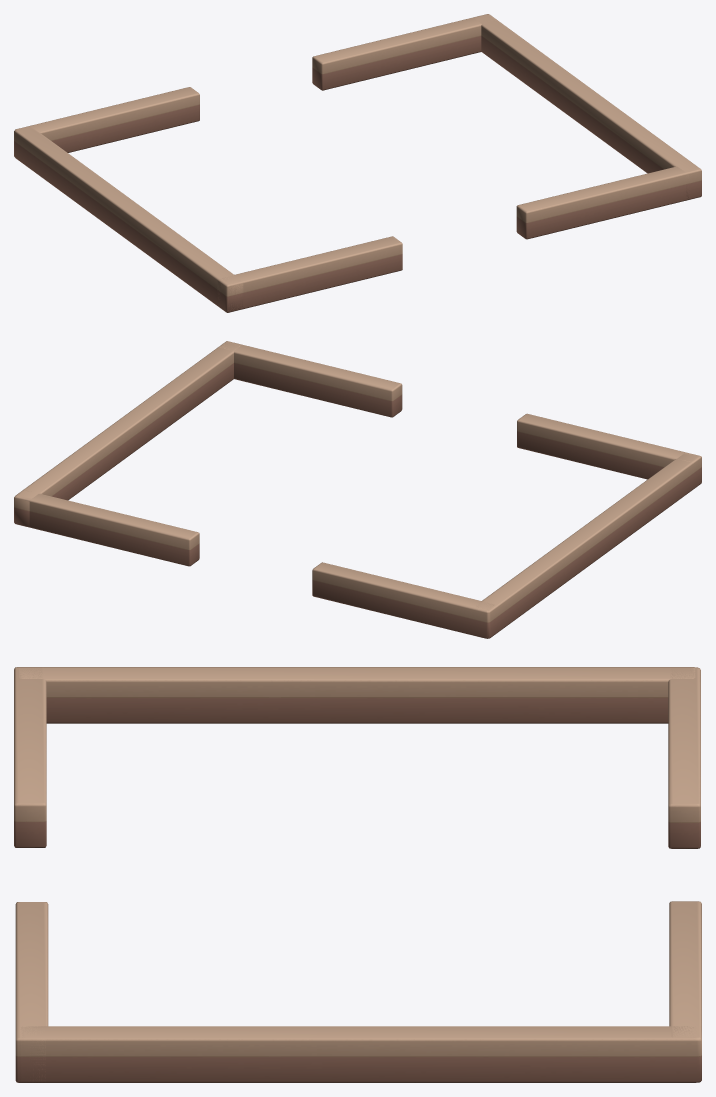
Rendered from Props.fbx.
The picture shows the model from 3 angles, top to bottom: view 1: azimuth 30°, elevation 25°; view 2: azimuth 150°, elevation 25°; view 3: azimuth 270°, elevation 25°; orthographic projection. The views are drawn at different scales.
Parts seen in each view (by area): view 1: Box20-3_1 (3), Box20-3_1 (2), Box20-3_2 (3), Box20-3_2 (7), Box20-3_2 (5), Box20-3_2 (1); view 2: Box20-3_1 (3), Box20-3_1 (2), Box20-3_2 (1), Box20-3_2 (5), Box20-3_2 (3), Box20-3_2 (7); view 3: Box20-3_1 (2), Box20-3_1 (3), Box20-3_2 (1), Box20-3_2 (7), Box20-3_2 (3), Box20-3_2 (5).
Part boxes in pixels (box(x1,y1,x2,y2)): Box20-3_1 (3): box(14, 127, 243, 311); Box20-3_1 (2): box(475, 14, 698, 198); Box20-3_2 (3): box(516, 164, 701, 239); Box20-3_2 (7): box(217, 236, 402, 312); Box20-3_2 (5): box(312, 14, 495, 90); Box20-3_2 (1): box(15, 87, 199, 152); Box20-3_1 (3): box(476, 453, 700, 638); Box20-3_1 (2): box(14, 342, 240, 526); Box20-3_2 (1): box(312, 562, 494, 638); Box20-3_2 (5): box(15, 490, 199, 566); Box20-3_2 (3): box(220, 341, 402, 417); Box20-3_2 (7): box(517, 413, 701, 489); Box20-3_1 (2): box(20, 1026, 701, 1082); Box20-3_1 (3): box(19, 667, 698, 723); Box20-3_2 (1): box(668, 668, 700, 848); Box20-3_2 (7): box(14, 667, 46, 847); Box20-3_2 (3): box(15, 902, 48, 1082); Box20-3_2 (5): box(669, 901, 701, 1081).
Size of the model in its own units: 27 by 1.5 by 21.05.
